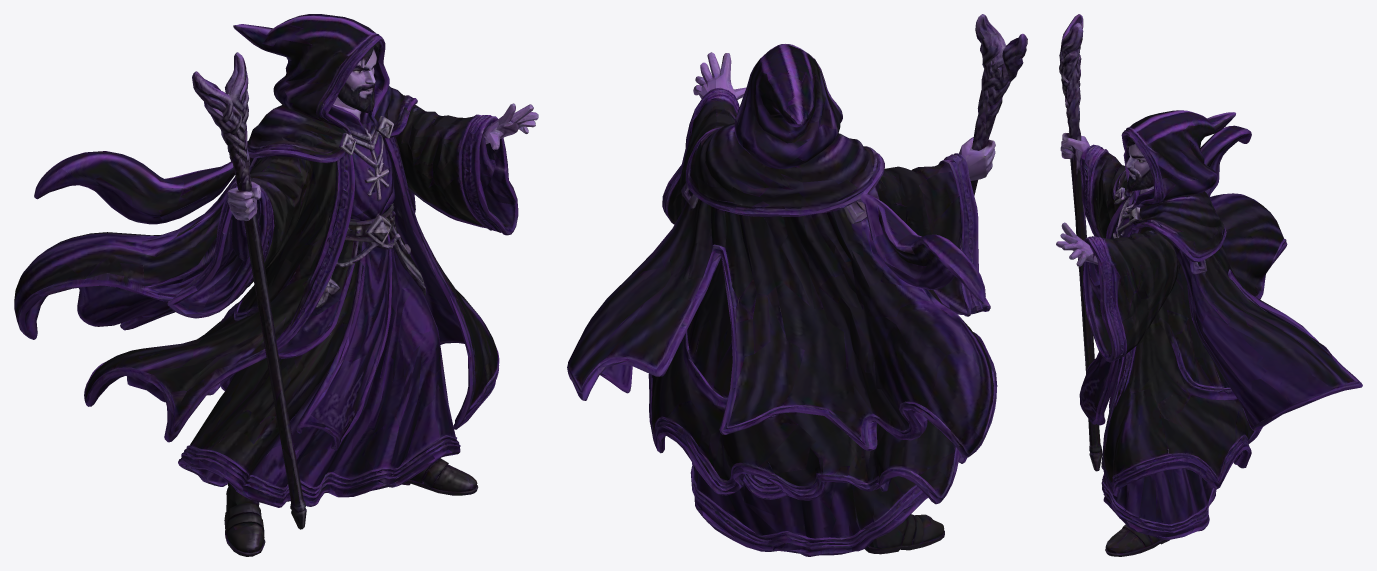
The model's file is mage_dark.glb.
3 views of the same model, side by side, from view 1: azimuth 30°, elevation 25°; view 2: azimuth 150°, elevation 25°; view 3: azimuth 270°, elevation 25° (orthographic). The views are drawn at different scales.
Size of the model in its own units: 1.58 by 1.9 by 1.22.
Materials: 1 (1 with a texture image).
